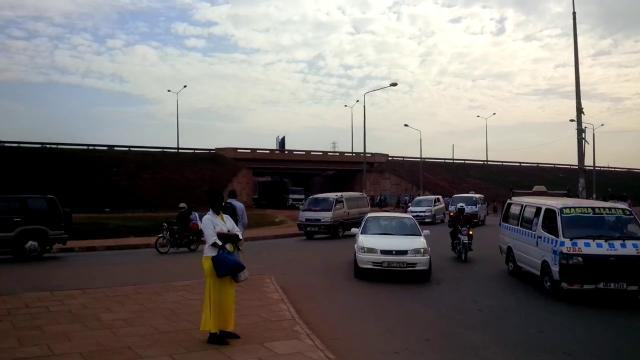car: (351, 210, 439, 284), (0, 192, 78, 257), (405, 195, 445, 225)
motorcycle: (153, 205, 205, 252), (447, 201, 475, 264)
van: (497, 186, 640, 293), (448, 192, 487, 228)
